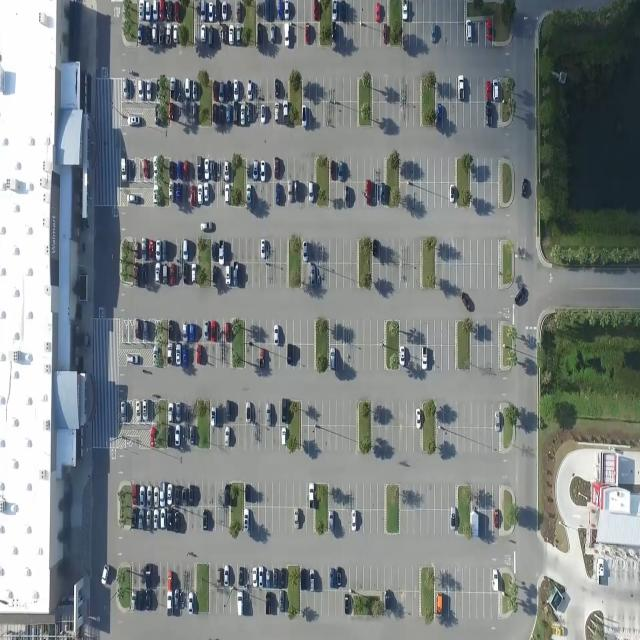car: (596, 558, 605, 585), (514, 287, 526, 306), (101, 562, 110, 586), (328, 346, 336, 371), (282, 100, 290, 124), (365, 179, 372, 205), (461, 292, 471, 310), (152, 156, 160, 178), (485, 103, 492, 127), (210, 241, 218, 262), (421, 346, 428, 370), (492, 79, 499, 101), (210, 320, 217, 342), (189, 424, 196, 446), (458, 75, 464, 100), (266, 401, 272, 426), (146, 563, 152, 588), (167, 591, 173, 616), (551, 626, 566, 636), (401, 0, 408, 21), (465, 20, 472, 41), (153, 184, 160, 205), (168, 402, 175, 423), (415, 408, 422, 429), (284, 22, 290, 46), (128, 115, 140, 127), (224, 159, 230, 183), (233, 262, 239, 286), (126, 354, 138, 366), (136, 400, 142, 424), (167, 424, 173, 448), (450, 505, 456, 529), (175, 511, 181, 535), (188, 592, 194, 616), (436, 593, 442, 617), (282, 398, 288, 422), (243, 508, 249, 532), (379, 183, 386, 203), (332, 0, 338, 23), (233, 78, 239, 101), (486, 80, 492, 103), (294, 179, 300, 202), (196, 156, 202, 179), (121, 157, 127, 180), (142, 398, 148, 421), (175, 424, 181, 447), (147, 484, 153, 507), (132, 590, 138, 613), (237, 592, 243, 615), (492, 569, 498, 592), (449, 184, 456, 203), (170, 77, 176, 99), (185, 78, 191, 100), (274, 103, 280, 125), (274, 157, 280, 179), (260, 160, 266, 182), (288, 179, 294, 201), (182, 239, 188, 261), (286, 343, 292, 365), (153, 346, 159, 368), (150, 426, 156, 448), (225, 426, 231, 448), (154, 486, 160, 508), (131, 508, 137, 530), (138, 508, 144, 530), (153, 508, 159, 530), (167, 508, 173, 530), (174, 588, 180, 610), (309, 570, 315, 592), (200, 221, 213, 231), (309, 482, 314, 508), (166, 24, 172, 45), (487, 20, 493, 41), (302, 106, 308, 127), (436, 104, 442, 125), (344, 186, 350, 207), (162, 263, 168, 284), (274, 324, 280, 345), (176, 401, 182, 422), (246, 402, 252, 423), (494, 411, 500, 432), (202, 509, 208, 530), (192, 104, 198, 125), (127, 193, 138, 204), (152, 24, 158, 44), (200, 0, 206, 20), (124, 78, 130, 98), (192, 80, 198, 100), (226, 80, 232, 100), (246, 184, 252, 204), (169, 181, 175, 201), (141, 264, 147, 284), (170, 262, 175, 286), (212, 265, 218, 285), (219, 240, 224, 264), (260, 238, 266, 258), (302, 241, 308, 261), (310, 266, 316, 286), (400, 346, 406, 366), (121, 402, 127, 422), (211, 406, 217, 426), (226, 400, 232, 420), (140, 485, 146, 505), (132, 483, 138, 503), (146, 510, 152, 530), (224, 566, 230, 586), (252, 568, 258, 588), (522, 177, 528, 197), (225, 484, 230, 507), (174, 2, 180, 21), (260, 105, 266, 124), (197, 184, 203, 203), (143, 159, 149, 178), (141, 237, 147, 256), (225, 323, 231, 342), (182, 487, 188, 506), (168, 572, 174, 591), (344, 595, 350, 614), (341, 0, 346, 22), (147, 80, 152, 102), (240, 105, 245, 127), (253, 158, 258, 180), (204, 158, 209, 180), (191, 185, 196, 207), (330, 510, 335, 532), (280, 590, 285, 612), (301, 568, 306, 590), (385, 588, 390, 610), (431, 24, 437, 42), (138, 80, 144, 98), (247, 105, 253, 123), (275, 187, 281, 205), (162, 241, 168, 259), (182, 324, 188, 342), (134, 320, 140, 338), (372, 239, 378, 257), (139, 0, 144, 21), (167, 0, 172, 21), (278, 0, 283, 21), (338, 160, 343, 181), (309, 181, 314, 202), (210, 159, 215, 180), (134, 265, 139, 286), (259, 347, 264, 368), (176, 344, 181, 365), (183, 346, 188, 367), (161, 508, 166, 529), (266, 593, 271, 614), (259, 566, 264, 587), (352, 510, 357, 531), (183, 161, 189, 178), (168, 102, 174, 119), (153, 0, 158, 20), (138, 24, 143, 44), (208, 25, 213, 45), (229, 25, 234, 45), (265, 0, 270, 20), (213, 80, 218, 100), (331, 161, 336, 181), (204, 182, 209, 202), (156, 240, 161, 260), (197, 344, 202, 364), (146, 590, 151, 610), (239, 566, 244, 586), (225, 184, 230, 204), (159, 26, 164, 45), (222, 0, 227, 19), (222, 26, 227, 45), (284, 0, 289, 19), (383, 25, 388, 44), (226, 103, 231, 122), (177, 160, 182, 179), (149, 239, 154, 258), (204, 321, 209, 340), (169, 320, 174, 339), (189, 323, 194, 342), (173, 25, 178, 43), (236, 26, 241, 44), (275, 79, 280, 97), (176, 183, 181, 201), (189, 485, 194, 503), (175, 486, 180, 504), (273, 569, 278, 587), (281, 569, 286, 587), (183, 264, 188, 282), (160, 0, 164, 22), (295, 507, 299, 529), (201, 25, 206, 42), (494, 510, 499, 527), (217, 569, 222, 586), (266, 571, 271, 588), (237, 1, 241, 22), (258, 23, 262, 44), (306, 22, 310, 43), (234, 102, 238, 123), (168, 342, 172, 363), (144, 320, 148, 341), (168, 484, 172, 505), (215, 0, 219, 20), (314, 0, 318, 20), (220, 82, 224, 102), (134, 242, 139, 258), (156, 262, 160, 282), (146, 2, 150, 21), (209, 2, 213, 21), (376, 3, 380, 22), (330, 569, 334, 588), (213, 104, 217, 122), (170, 160, 174, 178), (192, 264, 196, 282), (226, 266, 230, 284), (282, 427, 286, 445), (246, 484, 250, 502), (146, 25, 150, 42), (271, 24, 275, 41), (332, 22, 336, 39), (220, 105, 223, 124), (337, 573, 341, 586)
free_space: (372, 102, 380, 127), (470, 345, 478, 370), (132, 563, 140, 588), (478, 22, 486, 46), (316, 102, 324, 126), (336, 102, 344, 126), (280, 158, 288, 182), (406, 426, 414, 450), (399, 321, 407, 345), (434, 345, 442, 369), (188, 567, 196, 591), (434, 568, 442, 592), (449, 592, 457, 616), (400, 486, 408, 510), (478, 487, 486, 511), (478, 510, 486, 534), (304, 0, 312, 23), (280, 182, 288, 205), (420, 159, 428, 182), (434, 182, 442, 205), (470, 183, 478, 206), (442, 264, 450, 287), (456, 264, 464, 287), (350, 427, 358, 450), (406, 404, 414, 427), (272, 507, 280, 530), (356, 486, 364, 509), (370, 568, 378, 591), (412, 568, 420, 591), (393, 102, 400, 128), (346, 0, 354, 22), (416, 0, 424, 22), (444, 22, 452, 44), (442, 80, 450, 102), (470, 80, 478, 102), (491, 102, 499, 124), (406, 160, 414, 182), (470, 161, 478, 183), (210, 426, 218, 448), (286, 485, 294, 507), (230, 566, 238, 588), (414, 509, 422, 531), (420, 510, 428, 532), (280, 264, 288, 286), (436, 403, 443, 428), (450, 403, 457, 428), (478, 403, 485, 428), (329, 484, 336, 509), (153, 563, 160, 588), (322, 590, 329, 615), (412, 592, 419, 617), (484, 593, 491, 618), (407, 485, 414, 510), (400, 509, 407, 534), (281, 78, 288, 102), (470, 102, 477, 126), (477, 102, 484, 126), (400, 182, 407, 206), (427, 159, 434, 183), (441, 182, 448, 206), (448, 162, 456, 183), (148, 261, 155, 285), (170, 238, 177, 262), (240, 263, 247, 287), (253, 263, 260, 287), (273, 263, 280, 287), (316, 240, 323, 264), (392, 241, 400, 262), (450, 264, 457, 288), (322, 402, 329, 426), (322, 426, 329, 450), (329, 426, 336, 450), (350, 402, 357, 426), (343, 426, 350, 450), (436, 427, 443, 451), (443, 404, 450, 428), (450, 427, 457, 451), (457, 427, 464, 451), (471, 404, 478, 428), (471, 428, 478, 452), (478, 428, 485, 452), (210, 343, 217, 367), (300, 344, 307, 368), (329, 321, 336, 345), (357, 345, 364, 369), (371, 345, 378, 369), (414, 345, 421, 369), (485, 346, 492, 370), (252, 506, 259, 530), (286, 507, 293, 531), (343, 486, 350, 510), (349, 484, 356, 508), (160, 588, 167, 612), (210, 565, 217, 589), (301, 590, 308, 614), (364, 567, 371, 591), (456, 568, 463, 592), (442, 592, 449, 616), (484, 569, 491, 593), (463, 568, 470, 592), (463, 592, 470, 616), (470, 593, 477, 617), (485, 486, 492, 510), (451, 22, 458, 46), (458, 22, 465, 46), (378, 345, 385, 369), (407, 509, 414, 533), (194, 23, 201, 46), (257, 0, 264, 23), (291, 0, 298, 23), (291, 22, 298, 45), (298, 22, 305, 45), (367, 0, 374, 23), (374, 23, 381, 46), (424, 23, 431, 46), (247, 79, 254, 102), (303, 78, 310, 101), (449, 102, 456, 125), (253, 182, 260, 205), (301, 182, 308, 205), (329, 182, 336, 205), (357, 160, 364, 183), (414, 159, 421, 182), (427, 183, 434, 206), (246, 263, 253, 286), (302, 263, 309, 286), (309, 240, 316, 263), (323, 240, 330, 263), (344, 263, 351, 286), (350, 263, 357, 286), (372, 264, 379, 287), (379, 264, 386, 287), (436, 264, 443, 287), (464, 241, 471, 264), (471, 264, 478, 287), (478, 242, 485, 265), (414, 264, 421, 287), (189, 402, 196, 425), (238, 402, 245, 425), (238, 425, 245, 448), (245, 426, 252, 449), (315, 426, 322, 449), (336, 426, 343, 449), (372, 403, 379, 426), (372, 427, 379, 450), (379, 403, 386, 426), (379, 426, 386, 449), (386, 426, 393, 449), (393, 426, 400, 449), (400, 426, 407, 449), (414, 426, 421, 449), (443, 427, 450, 450), (464, 428, 471, 451), (485, 404, 492, 427), (266, 321, 273, 344), (266, 344, 273, 367), (280, 321, 287, 344), (307, 322, 314, 345), (336, 322, 343, 345), (357, 322, 364, 345), (364, 322, 371, 345), (209, 506, 216, 529), (216, 483, 223, 506), (279, 484, 286, 507), (336, 486, 343, 509), (378, 487, 385, 510), (364, 510, 371, 533), (210, 588, 217, 611), (308, 590, 315, 613), (315, 590, 322, 613), (470, 569, 477, 592), (421, 487, 428, 510), (435, 486, 442, 509), (342, 510, 350, 530), (492, 182, 498, 208), (194, 0, 201, 22), (298, 0, 305, 22), (311, 22, 318, 44), (360, 23, 367, 45), (381, 0, 388, 22), (430, 0, 437, 22), (444, 0, 451, 22), (437, 0, 444, 22), (240, 78, 247, 100), (323, 79, 330, 101), (393, 80, 400, 102), (379, 102, 386, 124), (386, 102, 393, 124), (436, 80, 443, 102), (470, 102, 477, 124), (246, 159, 253, 181), (287, 160, 294, 182), (301, 159, 308, 181), (308, 159, 315, 181), (344, 160, 351, 182), (350, 160, 357, 182), (400, 160, 407, 182), (414, 182, 421, 204), (421, 183, 428, 205), (434, 160, 441, 182), (484, 160, 491, 182), (190, 240, 197, 262), (239, 240, 246, 262), (253, 240, 260, 262), (350, 241, 357, 263), (450, 242, 457, 264), (457, 242, 464, 264), (471, 242, 478, 264), (414, 241, 421, 263), (259, 402, 266, 424), (329, 404, 336, 426), (343, 404, 350, 426), (386, 404, 393, 426), (457, 405, 464, 427), (464, 406, 471, 428), (485, 428, 492, 450), (492, 428, 499, 450), (189, 342, 196, 364), (246, 344, 253, 366), (364, 345, 371, 367), (378, 322, 385, 344), (414, 324, 421, 346), (188, 506, 195, 528), (209, 483, 216, 505), (272, 485, 279, 507), (357, 510, 364, 532), (371, 509, 378, 531), (153, 588, 160, 610), (181, 568, 188, 590), (349, 568, 356, 590), (398, 568, 405, 590), (391, 592, 398, 614), (398, 592, 405, 614), (414, 486, 421, 508), (471, 488, 478, 510), (492, 488, 499, 510), (354, 22, 360, 47), (310, 102, 316, 127), (337, 182, 343, 207), (351, 182, 357, 207), (302, 425, 308, 450), (231, 588, 237, 613), (428, 509, 434, 534), (277, 23, 284, 44), (423, 0, 430, 21), (437, 23, 444, 44), (450, 0, 457, 21), (477, 80, 484, 101), (184, 182, 191, 203), (386, 241, 393, 262), (443, 242, 450, 263), (485, 243, 492, 264), (176, 321, 183, 342), (300, 486, 307, 507), (378, 510, 385, 531), (336, 509, 343, 530), (271, 0, 277, 24), (347, 22, 353, 46), (417, 22, 423, 46), (472, 22, 478, 46), (324, 102, 330, 126), (351, 102, 357, 126), (407, 102, 413, 126), (414, 103, 420, 127), (464, 102, 470, 126), (218, 182, 224, 206), (485, 183, 491, 207), (260, 262, 266, 286), (266, 262, 272, 286), (344, 240, 350, 264), (464, 263, 470, 287), (218, 424, 224, 448), (232, 424, 238, 448), (266, 426, 272, 450), (302, 402, 308, 426), (309, 402, 315, 426), (309, 426, 315, 450), (225, 343, 231, 367), (253, 343, 259, 367), (337, 344, 343, 368), (344, 321, 350, 345), (351, 321, 357, 345), (371, 321, 377, 345), (449, 346, 455, 370), (485, 322, 491, 346), (216, 506, 222, 530), (266, 506, 272, 530), (140, 564, 146, 588), (259, 589, 265, 613), (392, 567, 398, 591), (406, 567, 412, 591), (406, 592, 412, 616), (442, 568, 448, 592), (449, 568, 455, 592), (492, 593, 498, 617), (478, 593, 484, 617), (435, 509, 441, 533), (254, 79, 261, 99), (330, 80, 337, 100), (294, 160, 301, 180), (223, 506, 230, 526), (340, 22, 346, 45), (360, 0, 366, 23), (403, 22, 409, 45), (310, 78, 316, 101), (344, 102, 350, 125), (457, 103, 463, 126), (211, 182, 217, 205), (260, 183, 266, 206), (267, 182, 273, 205), (358, 182, 364, 205), (407, 182, 413, 205), (492, 160, 498, 183), (226, 239, 232, 262), (246, 239, 252, 262), (267, 239, 273, 262), (316, 263, 322, 286), (330, 240, 336, 263), (337, 263, 343, 286), (387, 263, 393, 286), (478, 264, 484, 287), (492, 264, 498, 287), (218, 402, 224, 425), (232, 402, 238, 425), (260, 426, 266, 449), (316, 402, 322, 425), (253, 321, 259, 344), (260, 321, 266, 344), (294, 321, 300, 344), (294, 344, 300, 367), (301, 321, 307, 344), (308, 344, 314, 367), (351, 345, 357, 368), (407, 345, 413, 368), (428, 345, 434, 368), (435, 322, 441, 345), (428, 322, 434, 345), (471, 323, 477, 346), (478, 323, 484, 346), (478, 346, 484, 369), (492, 346, 498, 369), (252, 483, 258, 506), (294, 485, 300, 508), (259, 507, 265, 530), (300, 507, 306, 530), (371, 487, 377, 510), (161, 565, 167, 588), (316, 566, 322, 589), (329, 590, 335, 613), (378, 569, 384, 592), (385, 568, 391, 591), (477, 569, 483, 592), (272, 590, 278, 613), (443, 102, 449, 125), (215, 24, 221, 46), (229, 1, 235, 23), (360, 0, 366, 22), (410, 22, 416, 44), (458, 0, 464, 22), (178, 102, 184, 124), (185, 102, 191, 124), (261, 80, 267, 102), (268, 80, 274, 102), (268, 102, 274, 124), (317, 80, 323, 102), (344, 80, 350, 102), (351, 80, 357, 102), (380, 80, 386, 102), (387, 80, 393, 102), (373, 80, 379, 102), (414, 79, 420, 101), (450, 80, 456, 102), (464, 80, 470, 102), (267, 160, 273, 182), (364, 160, 370, 182), (442, 160, 448, 182), (478, 160, 484, 182), (478, 184, 484, 206), (233, 239, 239, 261), (274, 241, 280, 263), (280, 241, 286, 263), (323, 264, 329, 286), (330, 263, 336, 285), (337, 240, 343, 262), (393, 264, 399, 286), (380, 242, 386, 264), (485, 265, 491, 287), (128, 400, 134, 422), (273, 403, 279, 425), (273, 426, 279, 448), (336, 404, 342, 426), (393, 404, 399, 426), (400, 404, 406, 426), (197, 320, 203, 342), (246, 321, 252, 343), (273, 344, 279, 366), (280, 344, 286, 366), (287, 321, 293, 343), (344, 346, 350, 368), (407, 323, 413, 345), (421, 322, 427, 344), (442, 323, 448, 345), (449, 323, 455, 345), (442, 346, 448, 368), (492, 323, 498, 345), (161, 484, 167, 506), (196, 484, 202, 506), (182, 507, 188, 529), (196, 506, 202, 528), (259, 483, 265, 505), (266, 484, 272, 506), (280, 507, 286, 529), (307, 508, 313, 530), (364, 487, 370, 509), (175, 567, 181, 589), (218, 588, 224, 610), (224, 588, 230, 610), (252, 589, 258, 611), (322, 568, 328, 590), (336, 591, 342, 613), (343, 568, 349, 590), (357, 568, 363, 590), (140, 588, 146, 610), (428, 487, 434, 509), (442, 510, 448, 532), (486, 510, 492, 532), (264, 23, 270, 44), (353, 0, 359, 21), (368, 22, 374, 43), (409, 0, 415, 21), (179, 80, 185, 101), (407, 81, 413, 102), (191, 160, 197, 181), (219, 263, 225, 284), (436, 242, 442, 263), (492, 243, 498, 264), (202, 485, 208, 506), (442, 488, 448, 509), (450, 489, 456, 510), (331, 102, 336, 126), (337, 81, 343, 101), (204, 343, 209, 367), (457, 592, 462, 615), (130, 158, 135, 180), (131, 78, 136, 99), (153, 401, 158, 422)
